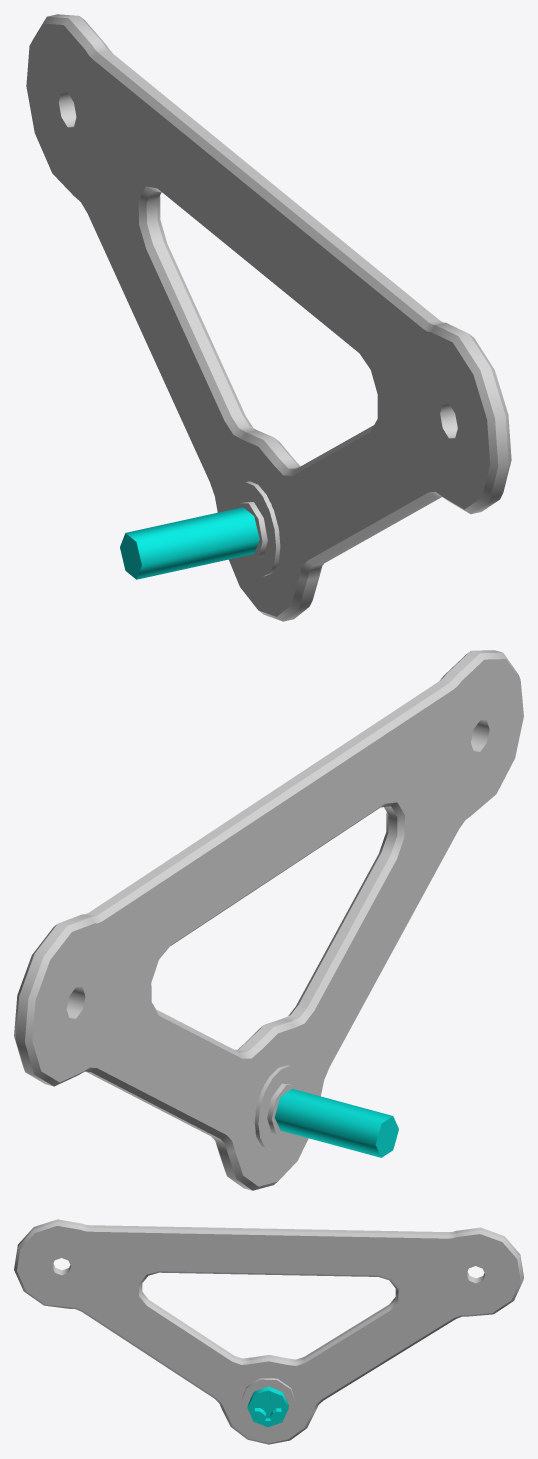
Rendered from triangle.dae.
3 views of the same model, one above another, from view 1: azimuth 30°, elevation 25°; view 2: azimuth 150°, elevation 25°; view 3: azimuth 270°, elevation 25° (orthographic). The views are drawn at different scales.
Parts seen in each view (by area): view 1: _; view 2: _; view 3: _.
Part boxes in pixels (left/top/right/bottom): _: left=26, top=14, right=511, bottom=621; _: left=14, top=650, right=523, bottom=1190; _: left=14, top=1219, right=523, bottom=1444.
Bounding box in the file's own units: 16.73 × 84.64 × 40.05.
